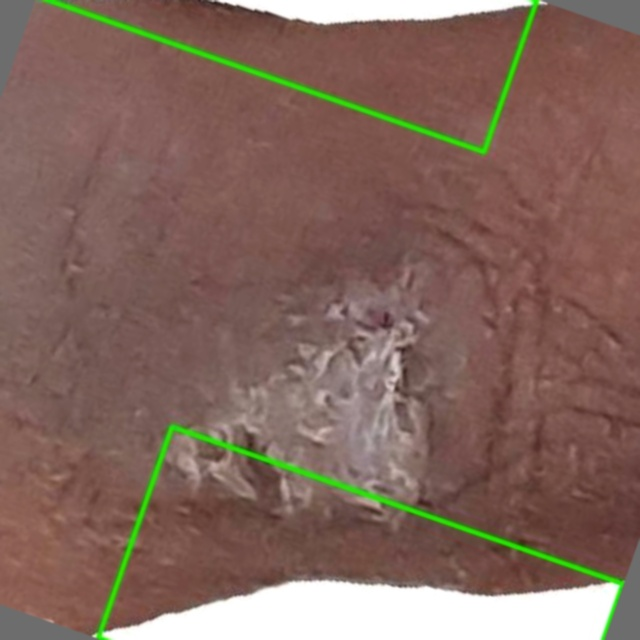Contact Dermatitis: (98, 426, 622, 639)
